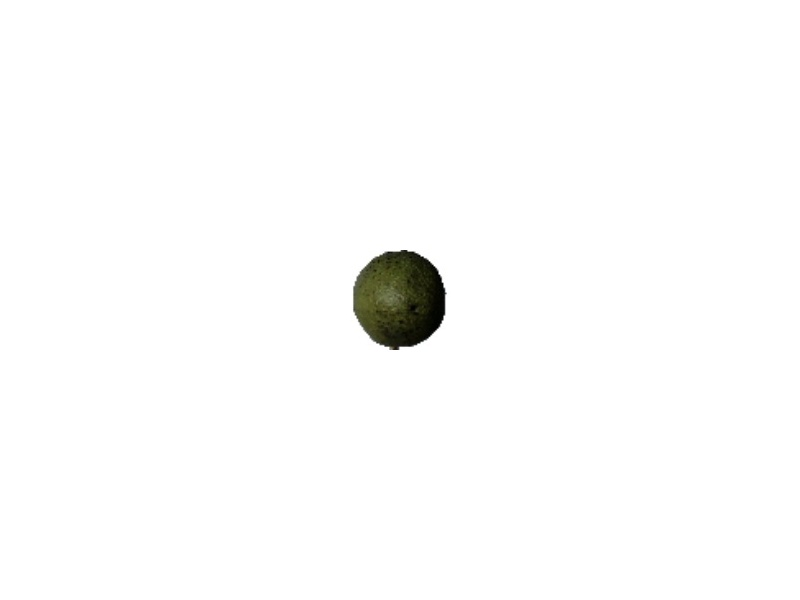abacate: (350, 248, 448, 352)
